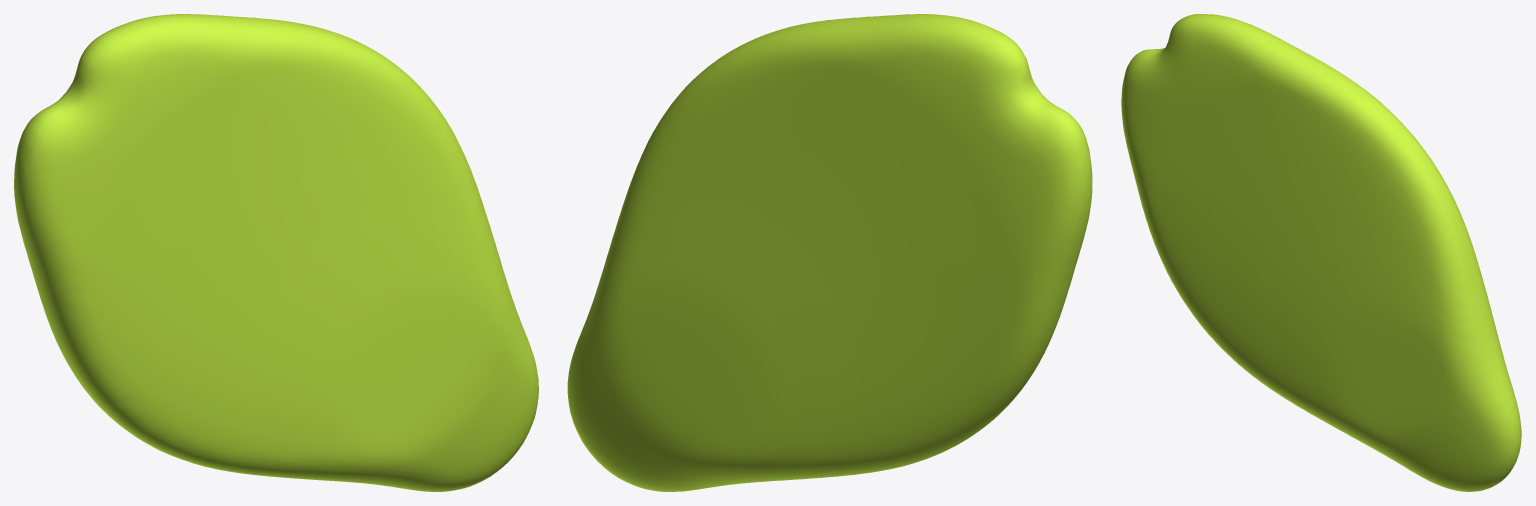
File: petal.glb
3 views of the same model, side by side, from view 1: azimuth 30°, elevation 25°; view 2: azimuth 150°, elevation 25°; view 3: azimuth 330°, elevation 25° (orthographic). The views are drawn at different scales.
Parts seen in each view (by area): view 1: Petal; view 2: Petal; view 3: Petal.
Boxes of the visible parts, x1,y1,x2,y2 form: Petal: (14, 14, 538, 491); Petal: (567, 14, 1092, 491); Petal: (1121, 14, 1521, 491).
Size of the model in its own units: 19.17 by 19.17 by 3.21.
Materials: 1 (1 with a texture image).
